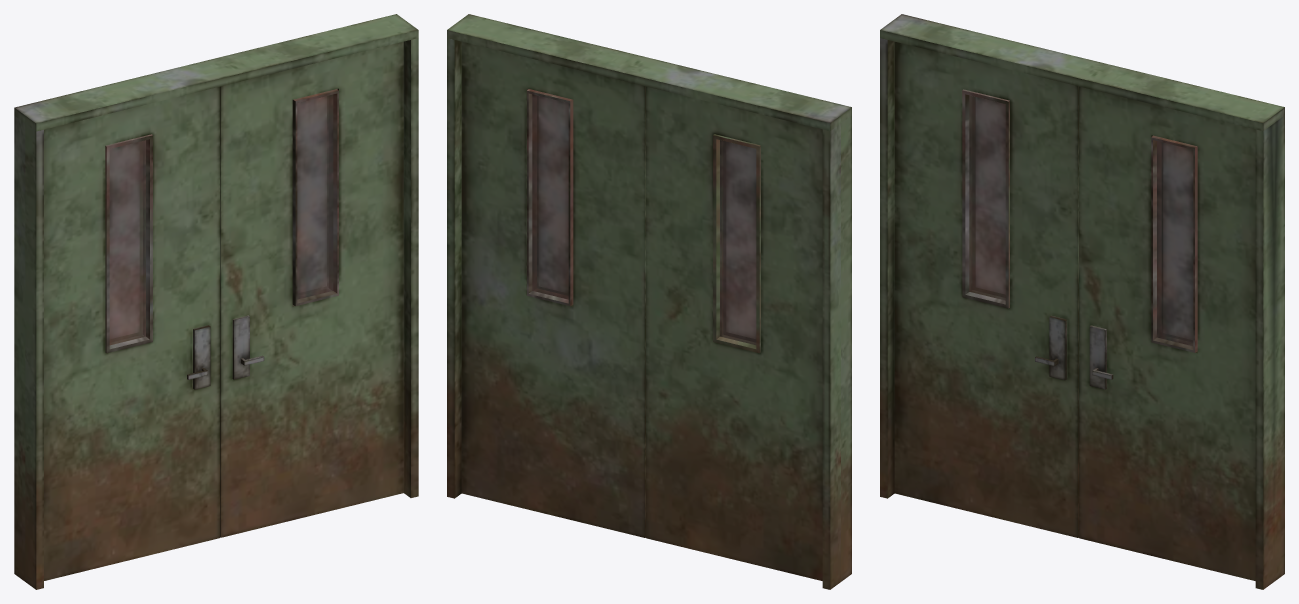
The model's file is worn_steel_door.glb.
The picture shows the model from 3 angles, left to right: view 1: azimuth 30°, elevation 25°; view 2: azimuth 150°, elevation 25°; view 3: azimuth 330°, elevation 25°; orthographic projection.
Visible parts, largest first — view 1: Door3; view 2: Door3; view 3: Door3.
Boxes of the visible parts, box(x1,y1,x2,y2) form: Door3: box(14, 14, 418, 589); Door3: box(447, 14, 851, 589); Door3: box(880, 14, 1284, 589).
Bounding box in the file's own units: 1.72 × 2 × 0.1721.
Materials: 1 (1 with a texture image).
